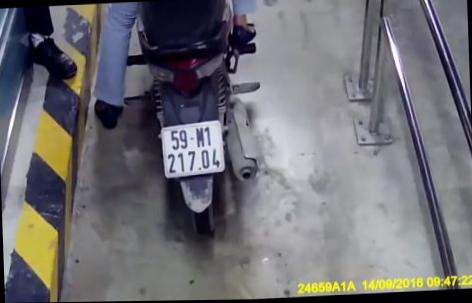LP: (159, 120, 226, 180)
